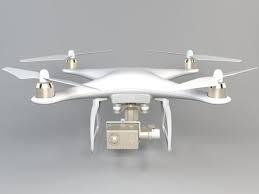drone: (3, 47, 259, 154)
